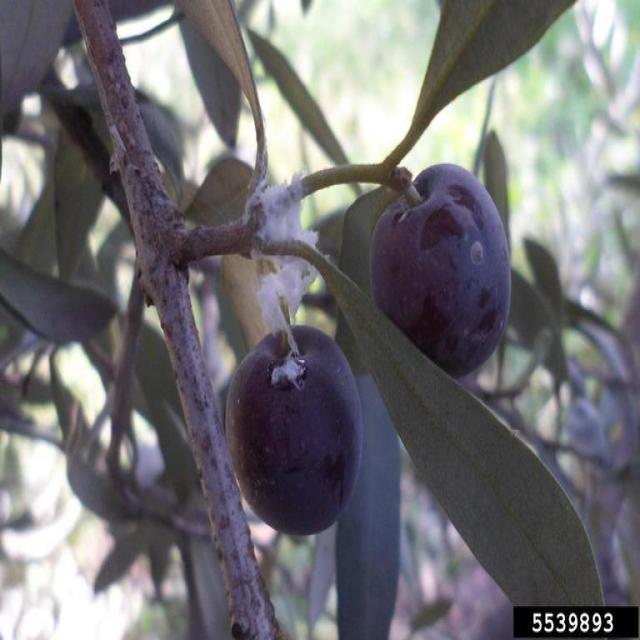Psyllid: (251, 241, 317, 397), (242, 132, 316, 242)
